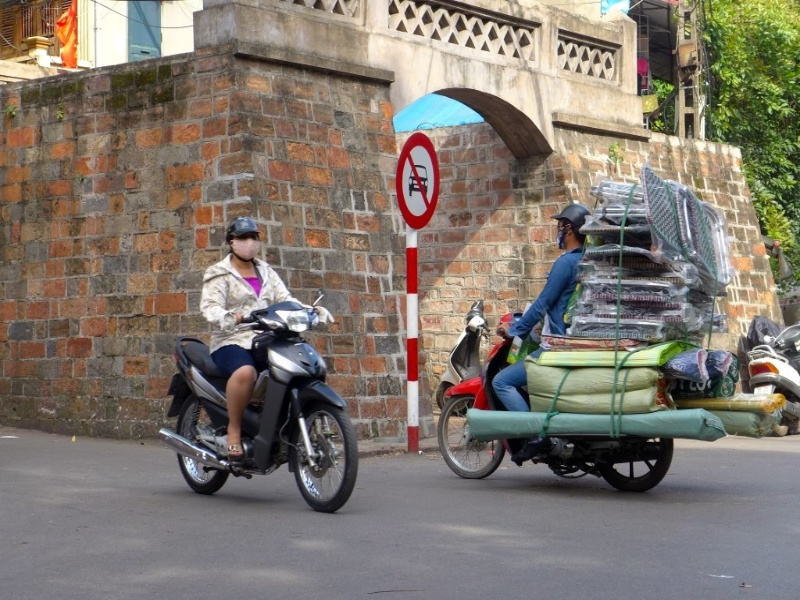helmet: (231, 217, 260, 239)
